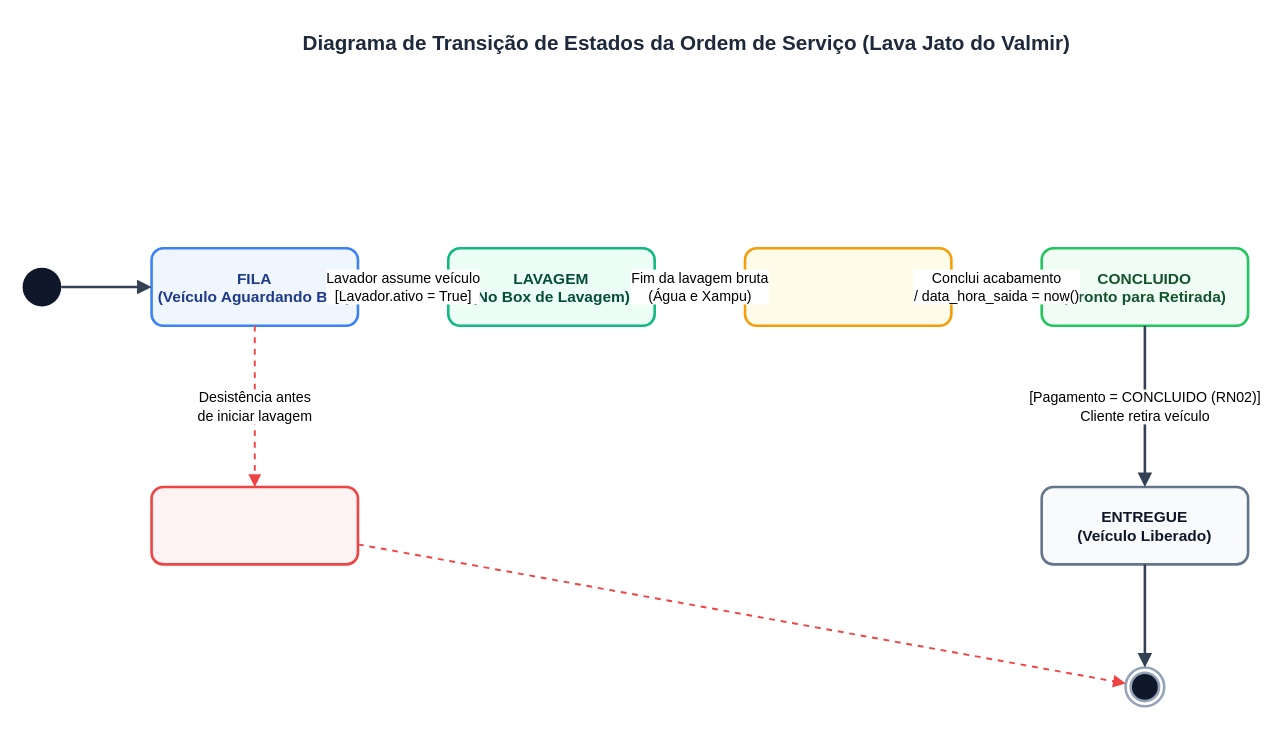
This 1282x729 diagram has some shape labels left out. The centre of each missing label's shape, as x and y in pixels:
"CANCELADA (Desistência Pré-Início)" goes at (254,525).
"SECAGEM (Área de Secagem/Cera)" goes at (847,286).
